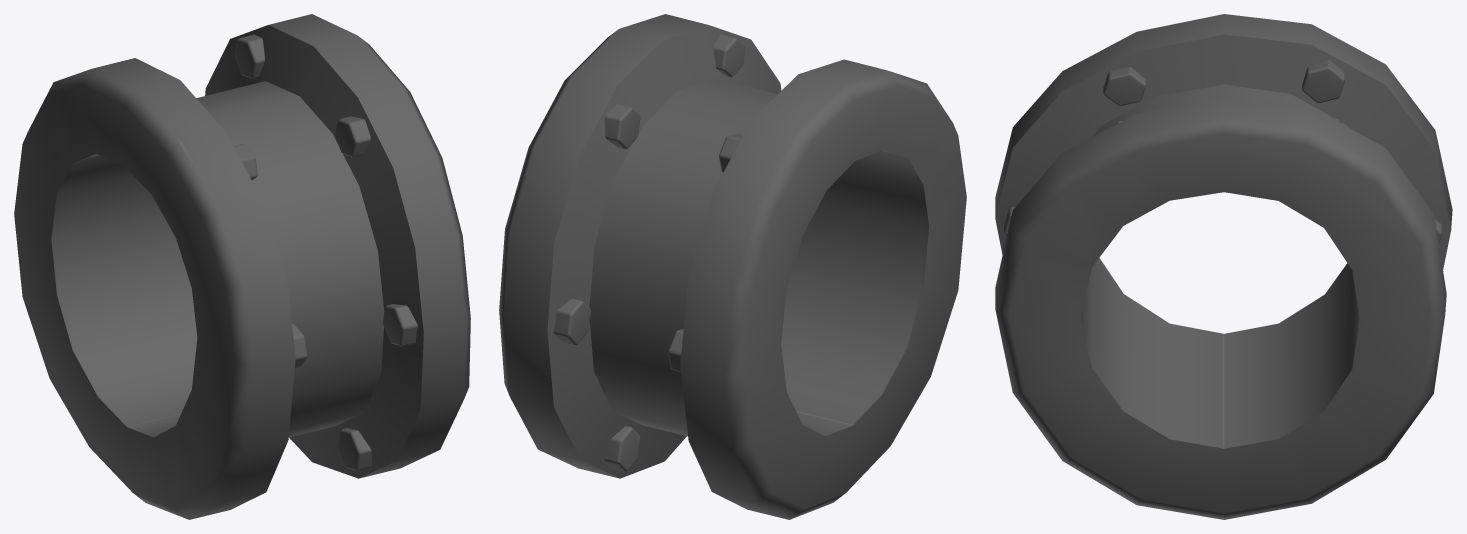
The model's file is SM_tuyau_petit_low (1).fbx.
The picture shows the model from 3 angles, left to right: view 1: azimuth 30°, elevation 25°; view 2: azimuth 150°, elevation 25°; view 3: azimuth 270°, elevation 25°; orthographic projection. The views are drawn at different scales.
Visible parts, largest first — view 1: SM_tuyau_petit_low; view 2: SM_tuyau_petit_low; view 3: SM_tuyau_petit_low.
Part boxes in pixels (x1,y1,x2,y2): SM_tuyau_petit_low: (14,14,470,519); SM_tuyau_petit_low: (499,14,966,519); SM_tuyau_petit_low: (995,14,1452,519).
Bounding box in the file's own units: 0.1594 × 0.2582 × 0.2642.
1 material, 1 textured.
